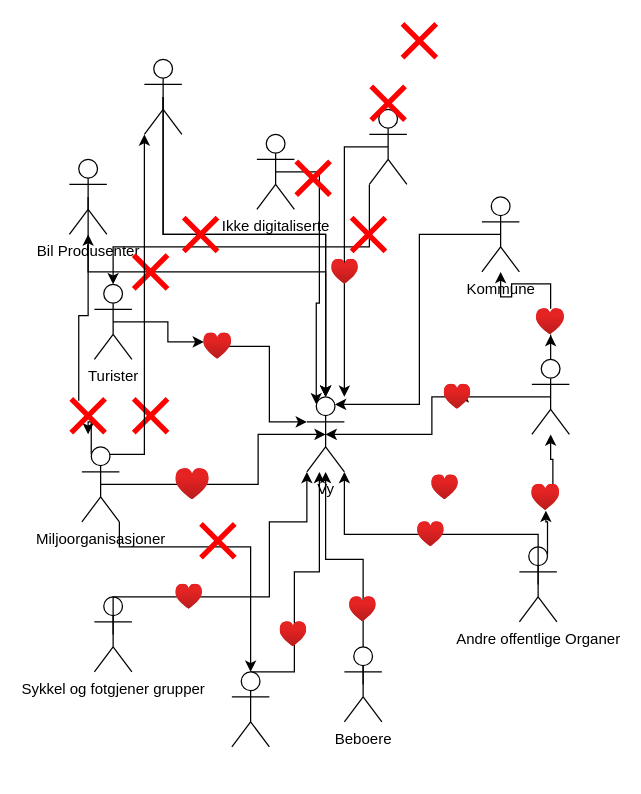
Some shapes in this 641 by 794 pixel diagram are drawn without their labels. The shapes that lost their labels are listed below. From the top down, each one's centre as x and y in pixels, then its label:
the point at 162,96: Taxi sjaforer/firmaer
the point at 387,146: Reisende
the point at 550,396: Staten
the point at 250,709: Private Firmaer
